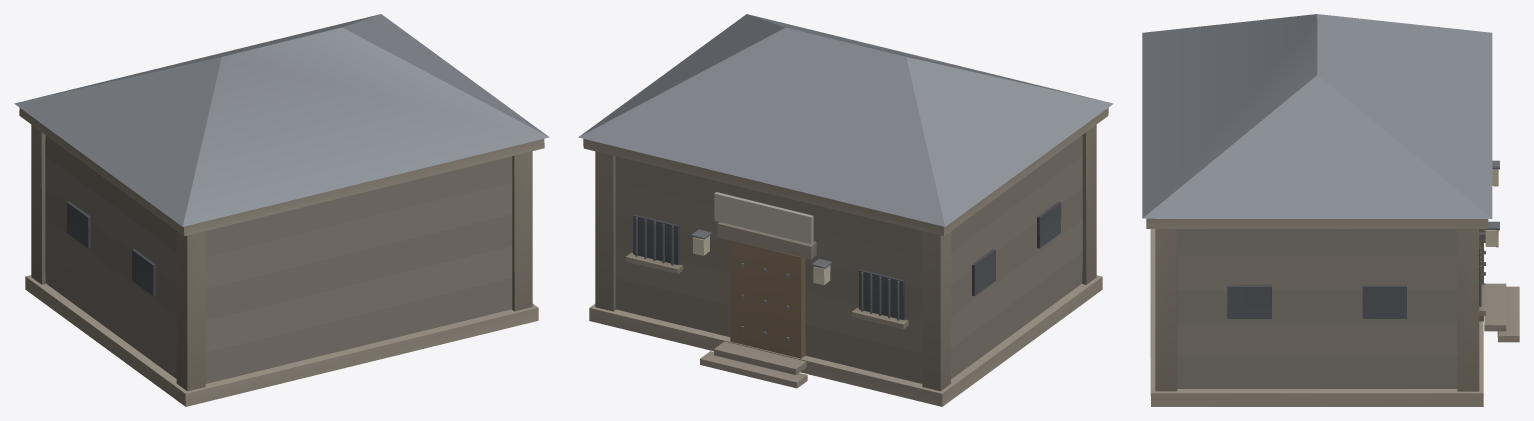
The model's file is jail_exterior_low.glb.
The picture shows the model from 3 angles, left to right: view 1: azimuth 30°, elevation 25°; view 2: azimuth 150°, elevation 25°; view 3: azimuth 270°, elevation 25°; orthographic projection. The views are drawn at different scales.
Bounding box in the file's own units: 9.77 × 6.69 × 8.38.
